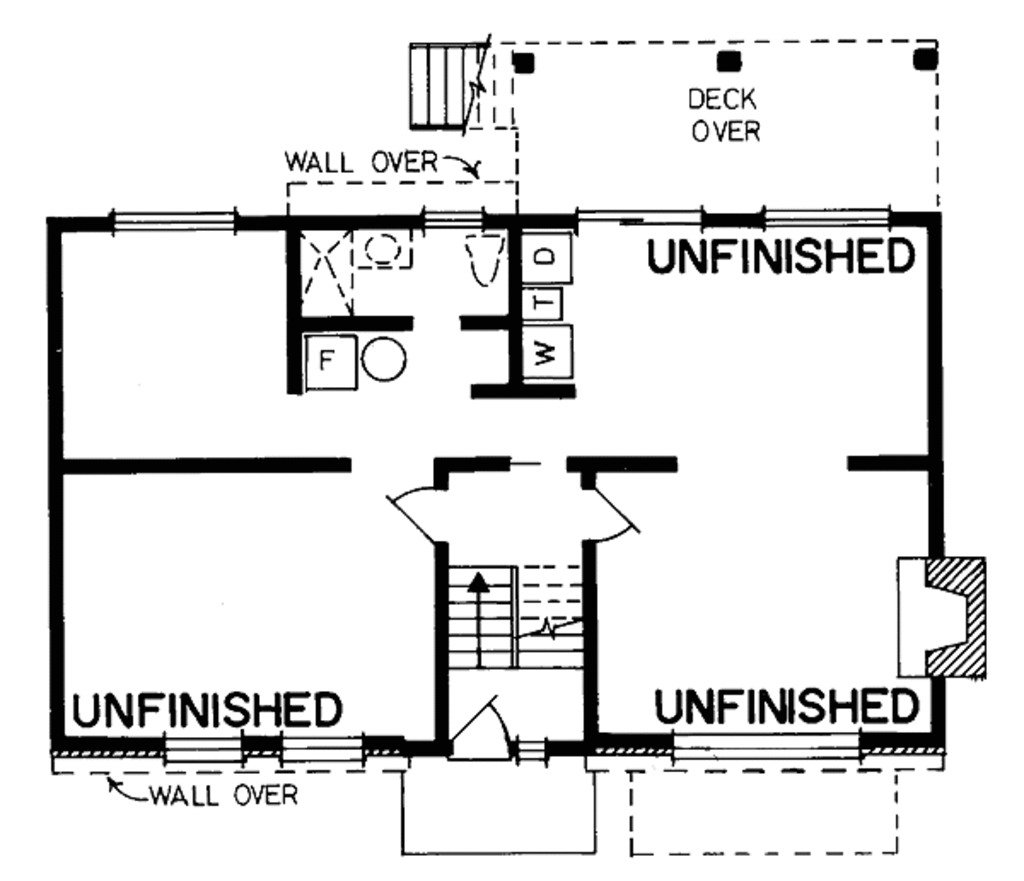door: (571, 478, 642, 545), (442, 698, 510, 762), (389, 489, 446, 545)
large_sink: (456, 227, 509, 286)
small_sink: (356, 227, 416, 269)
stairs: (453, 560, 595, 672), (400, 38, 524, 132)
window: (163, 735, 378, 767), (669, 728, 861, 761), (102, 206, 247, 238), (764, 202, 890, 234), (420, 199, 483, 228)
